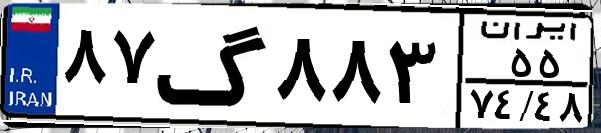3: (385, 28, 445, 110)
4: (495, 70, 520, 125), (535, 70, 560, 125)
5: (537, 27, 568, 80), (508, 27, 537, 80)
7: (110, 28, 156, 98), (470, 70, 495, 125)
8: (270, 28, 330, 110), (330, 28, 385, 110), (57, 26, 110, 100), (560, 70, 590, 125)
گ: (156, 12, 270, 120)
